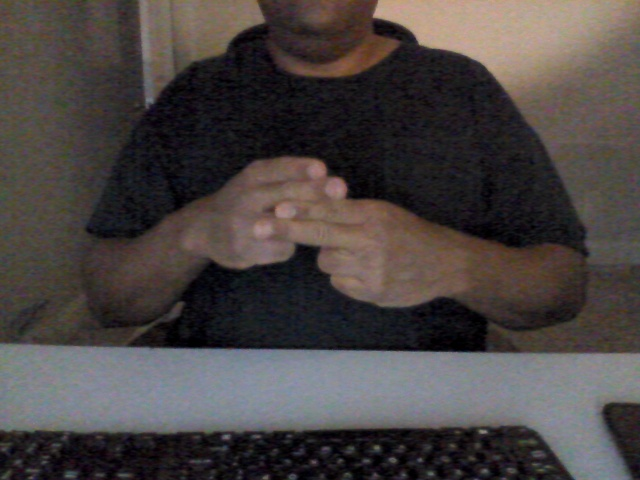name: (200, 147, 452, 317)
